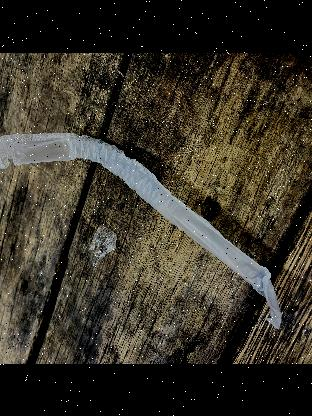Others: (0, 129, 287, 327)
